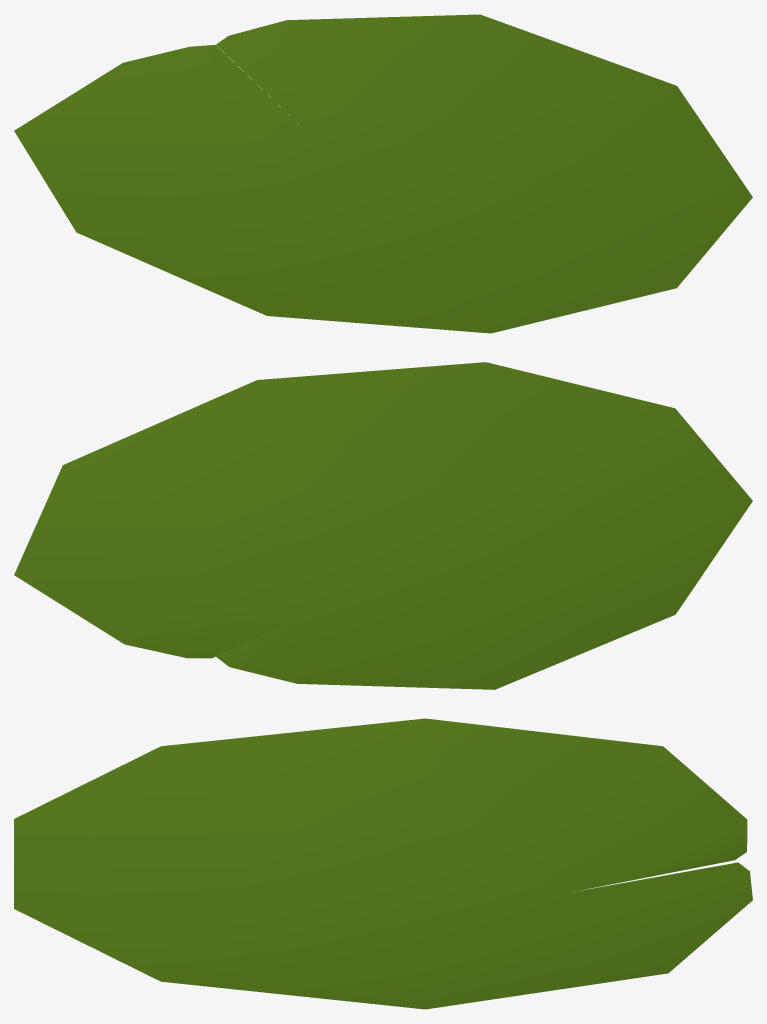
The model's file is plant_waterlily_01__lod1.glb.
The picture shows the model from 3 angles, top to bottom: view 1: azimuth 30°, elevation 25°; view 2: azimuth 150°, elevation 25°; view 3: azimuth 270°, elevation 25°; orthographic projection. The views are drawn at different scales.
Visible parts, largest first — view 1: plant_waterlily_01__lod1; view 2: plant_waterlily_01__lod1; view 3: plant_waterlily_01__lod1.
Boxes of the visible parts, x1=… form: plant_waterlily_01__lod1: x1=14, y1=14, x2=752, y2=333; plant_waterlily_01__lod1: x1=14, y1=362, x2=752, y2=689; plant_waterlily_01__lod1: x1=14, y1=718, x2=752, y2=1009.
Bounding box in the file's own units: 0.3118 × 0.0143 × 0.3346.
